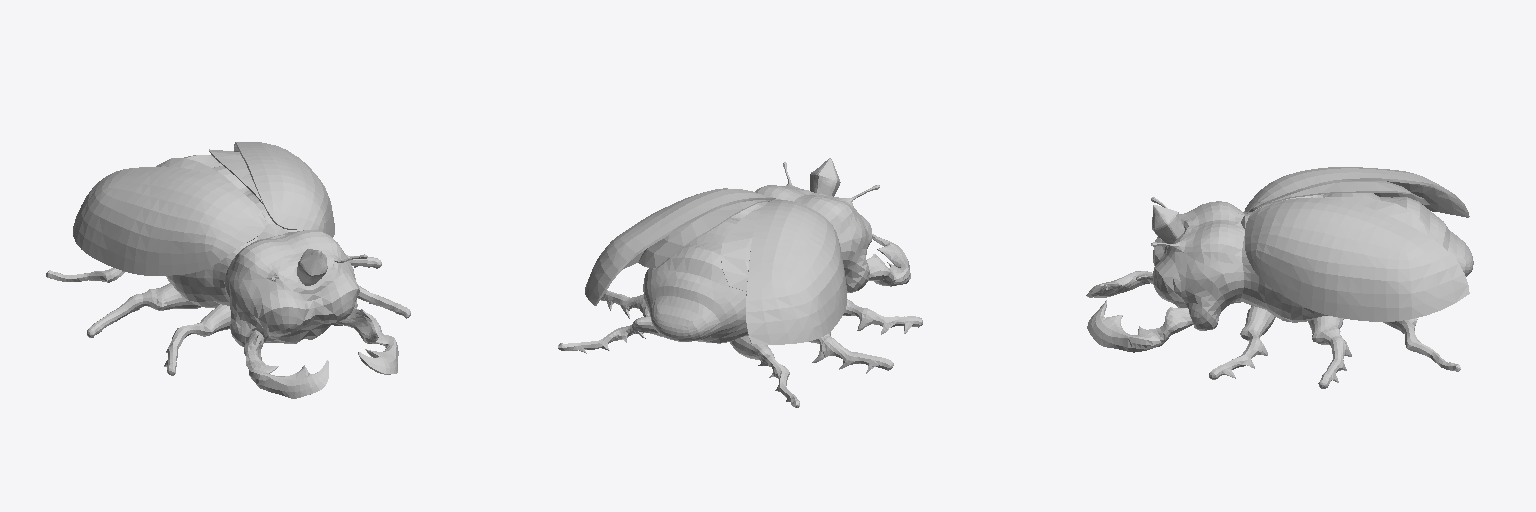
File: appearance.obj
The picture shows the model from 3 angles: view 1: azimuth 30°, elevation 25°; view 2: azimuth 150°, elevation 25°; view 3: azimuth 270°, elevation 25°; orthographic projection.
Visible parts, largest first — view 1: Full_LP_DEF_POSE_4:Mesh; view 2: Full_LP_DEF_POSE_4:Mesh; view 3: Full_LP_DEF_POSE_4:Mesh.
Boxes of the visible parts, x1,y1,x2,y2 form: Full_LP_DEF_POSE_4:Mesh: [46, 142, 410, 398]; Full_LP_DEF_POSE_4:Mesh: [558, 158, 922, 407]; Full_LP_DEF_POSE_4:Mesh: [1086, 167, 1473, 388].
Bounding box in the file's own units: 0.3971 × 0.1728 × 0.454.